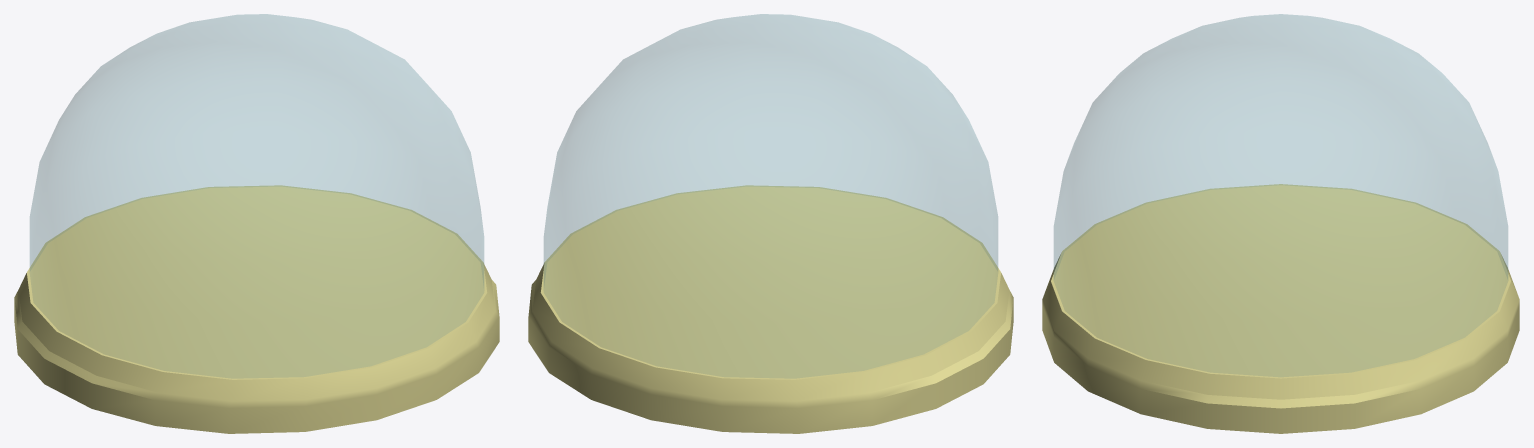
The model's file is Globe.fbx.
3 renders of one model, left to right at view 1: azimuth 30°, elevation 25°; view 2: azimuth 150°, elevation 25°; view 3: azimuth 270°, elevation 25°, orthographic.
Parts seen in each view (by area): view 1: Base1; view 2: Base1; view 3: Base1.
Boxes of the visible parts, x1,y1,x2,y2 form: Base1: (14, 14, 499, 433); Base1: (528, 14, 1013, 433); Base1: (1042, 14, 1519, 433).
Size of the model in its own units: 4.1 by 2.7 by 4.01.
